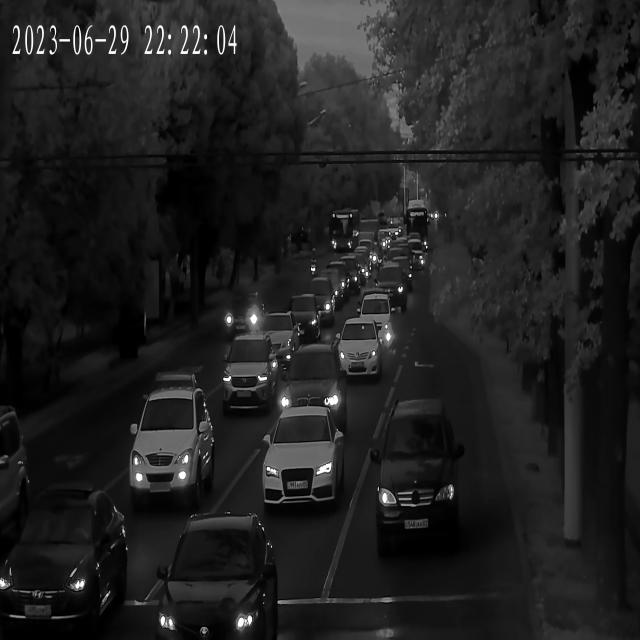Bus: (399, 201, 433, 251), (331, 209, 364, 249)
Car: (0, 492, 129, 629), (156, 514, 278, 639), (370, 398, 464, 538), (118, 384, 215, 509), (262, 410, 344, 510), (272, 344, 346, 428), (218, 333, 278, 412), (1, 404, 32, 554), (331, 321, 387, 384), (245, 316, 303, 374), (144, 372, 204, 417), (350, 292, 396, 345), (275, 294, 323, 341), (296, 279, 339, 325), (370, 267, 410, 314), (222, 298, 265, 339), (308, 266, 351, 306), (333, 254, 368, 288), (379, 260, 413, 295), (395, 244, 425, 270), (349, 243, 376, 266)
